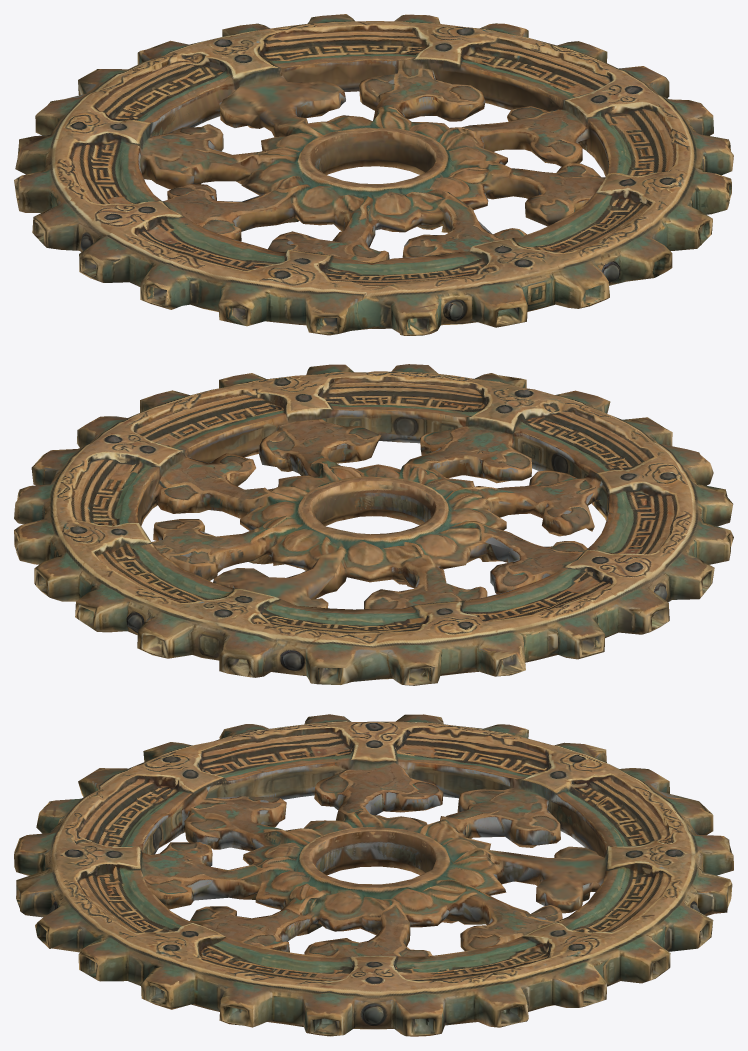
The model's file is PR_BronzeGear_02.fbx.
The picture shows the model from 3 angles, top to bottom: view 1: azimuth 30°, elevation 25°; view 2: azimuth 150°, elevation 25°; view 3: azimuth 270°, elevation 25°; orthographic projection.
Visible parts, largest first — view 1: texture_mapping; view 2: texture_mapping; view 3: texture_mapping.
Part boxes in pixels (left/top/right/bottom): texture_mapping: left=14, top=14, right=733, bottom=335; texture_mapping: left=14, top=364, right=733, bottom=685; texture_mapping: left=14, top=714, right=733, bottom=1036.
Size of the model in its own units: 1 by 1 by 0.0766.
Materials: 1 (1 with a texture image).
